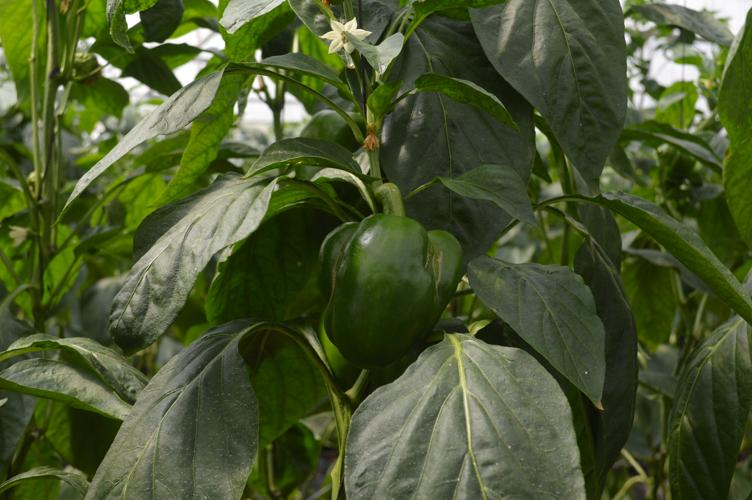BellPepper: (326, 215, 460, 358), (313, 220, 372, 381), (296, 111, 364, 194)
